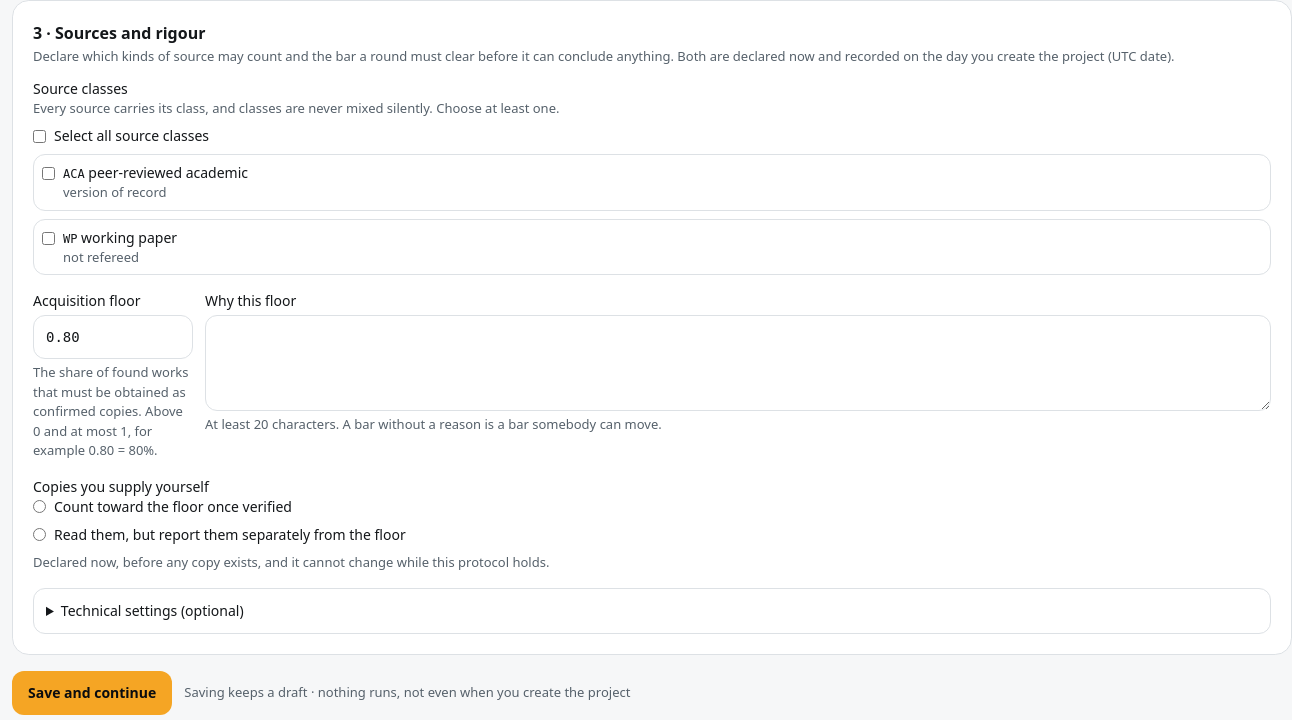
StepSources › selects and clears every source class with the select-all box
Click the checkbox labelled "Select all source classes".
click(40, 136)  # box x1=33 y1=130 x2=46 y2=142
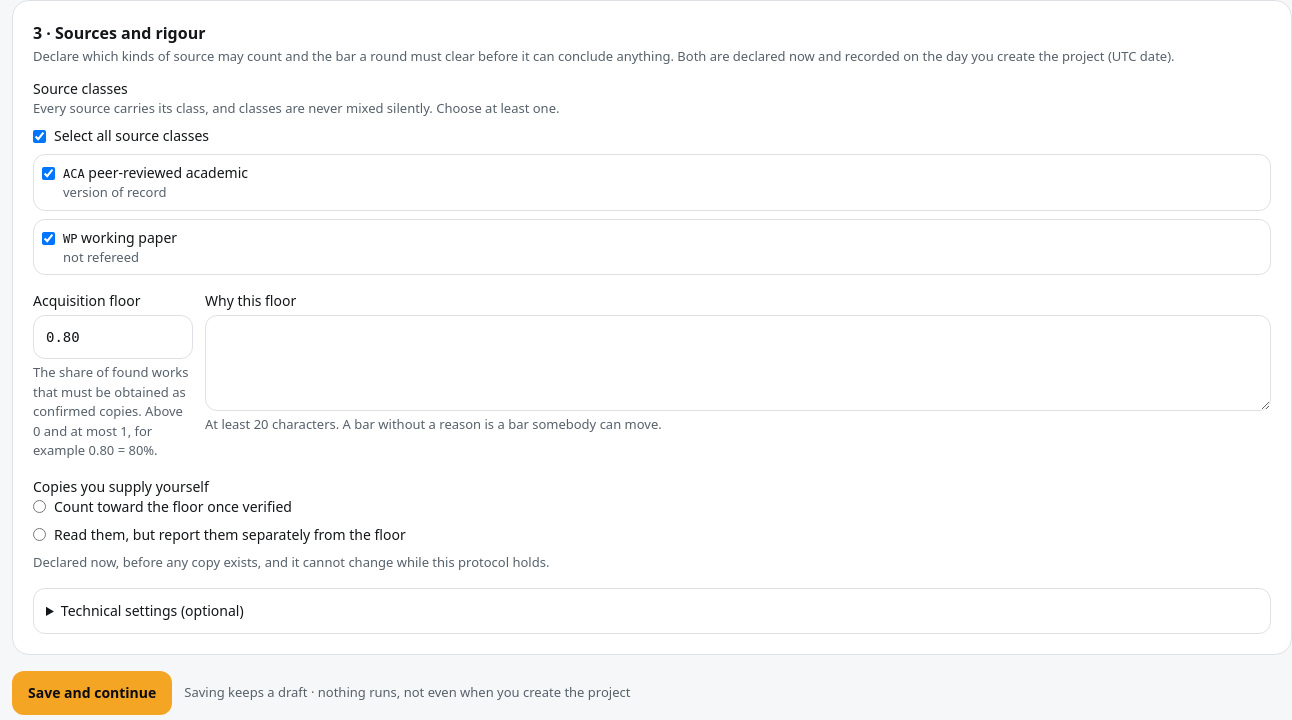
Now the checkbox labelled "Select all source classes" is checked, box x1=33 y1=130 x2=46 y2=142
Now the checkbox labelled "ACA peer-reviewed academic version of record" is checked
Now the checkbox labelled "WP working paper not refereed" is checked, box x1=42 y1=232 x2=55 y2=245
Click the checkbox labelled "ACA peer-reviewed academic version of record".
click(48, 174)  # box x1=42 y1=167 x2=55 y2=180
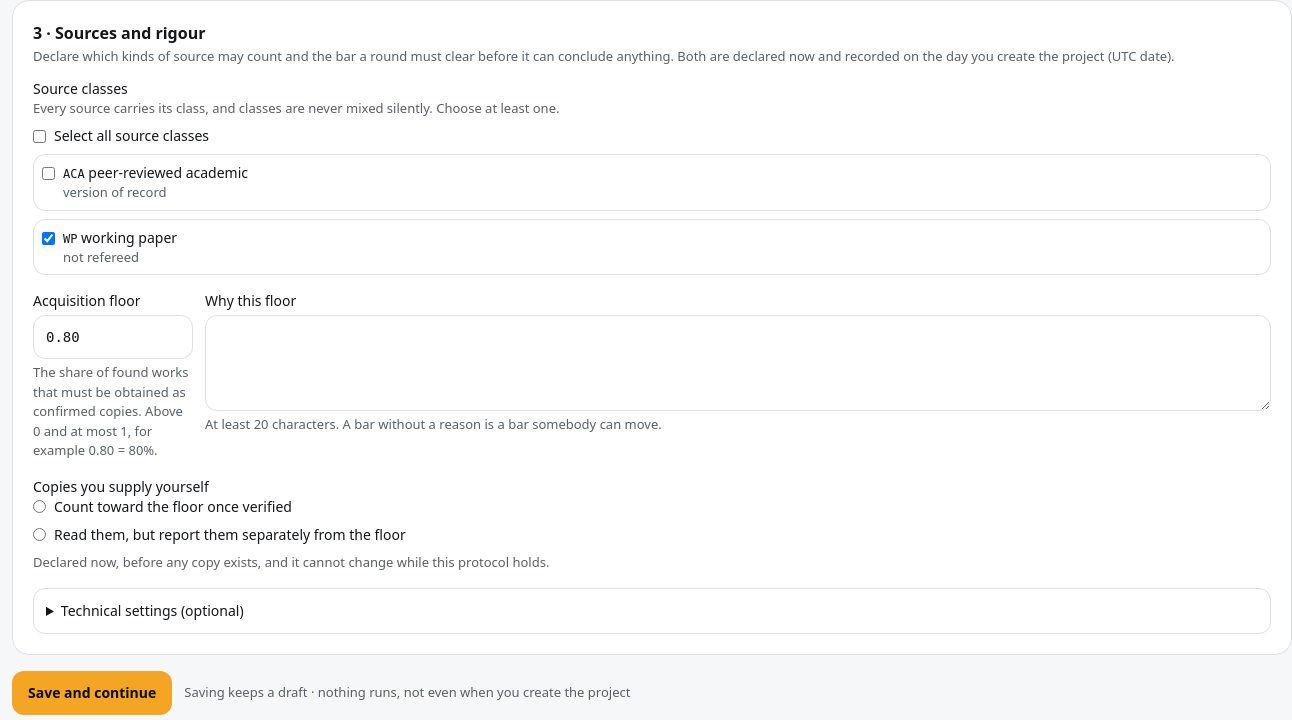
Now the checkbox labelled "Select all source classes" is not checked
Click the checkbox labelled "Select all source classes".
click(40, 136)  # box x1=33 y1=130 x2=46 y2=142
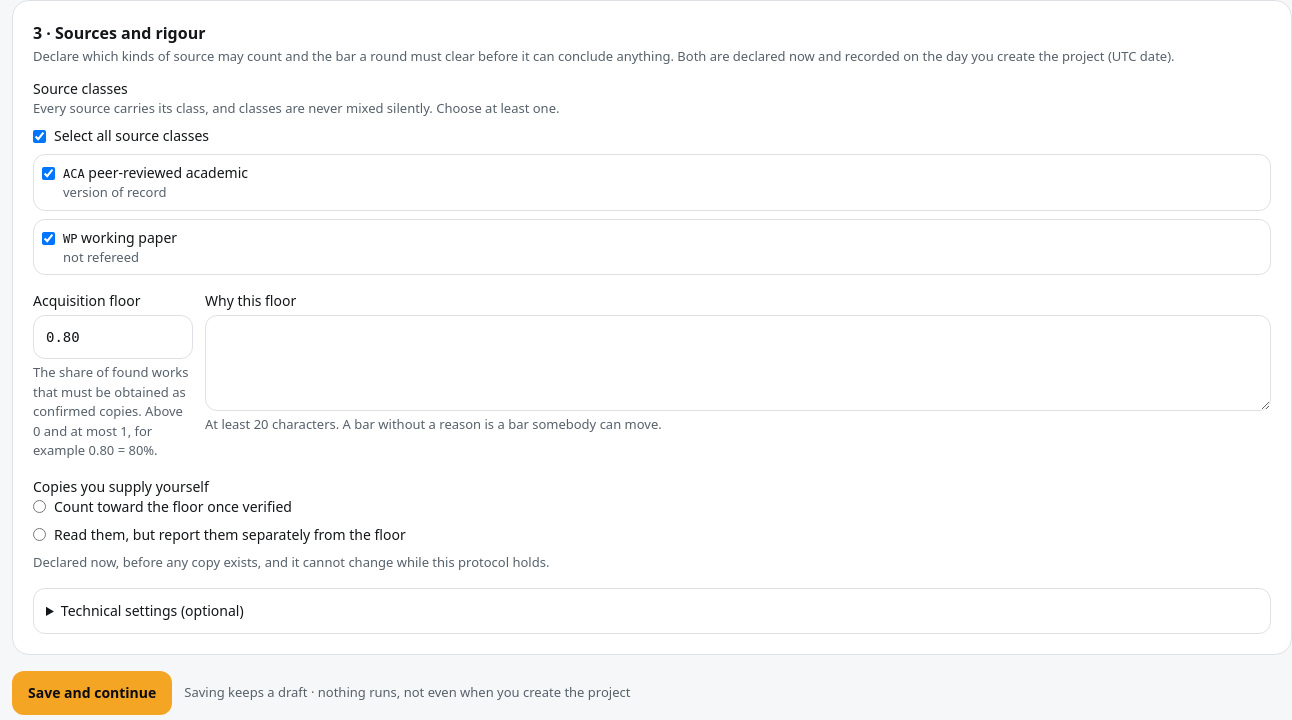
Click the checkbox labelled "Select all source classes".
click(40, 136)  # box x1=33 y1=130 x2=46 y2=142
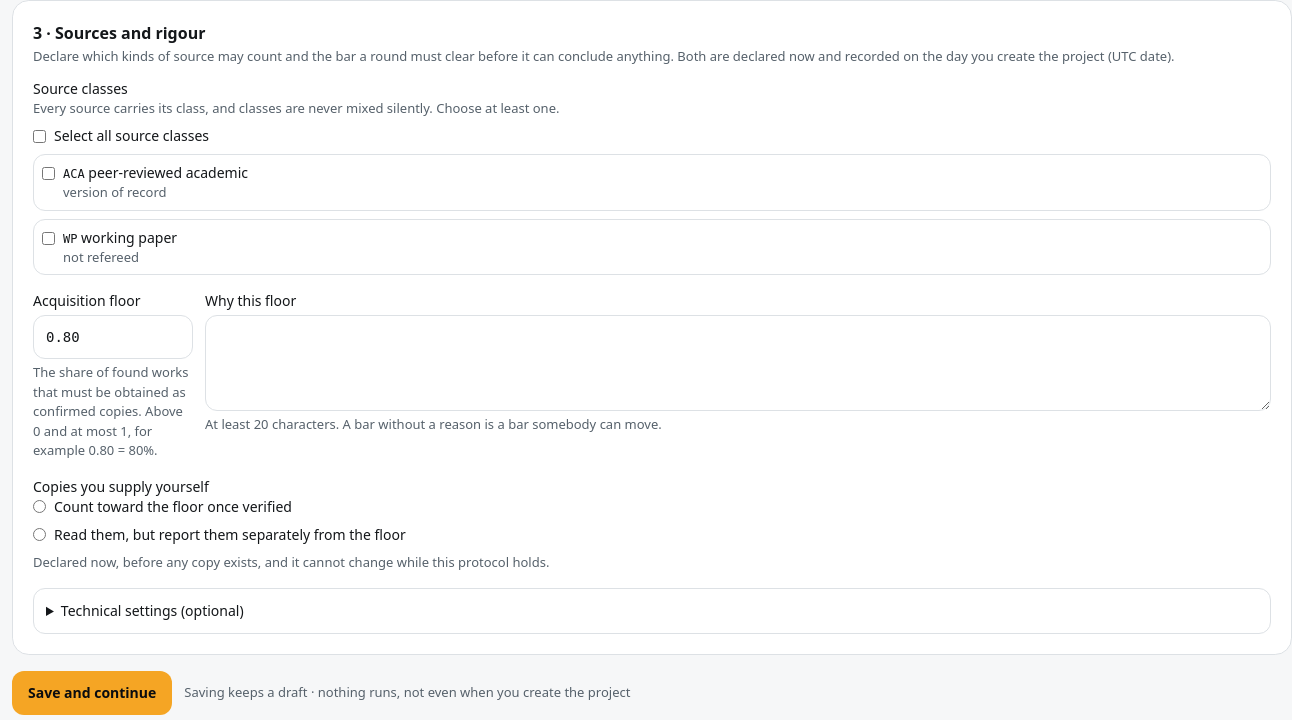
Now the checkbox labelled "WP working paper not refereed" is not checked, box x1=42 y1=232 x2=55 y2=245
